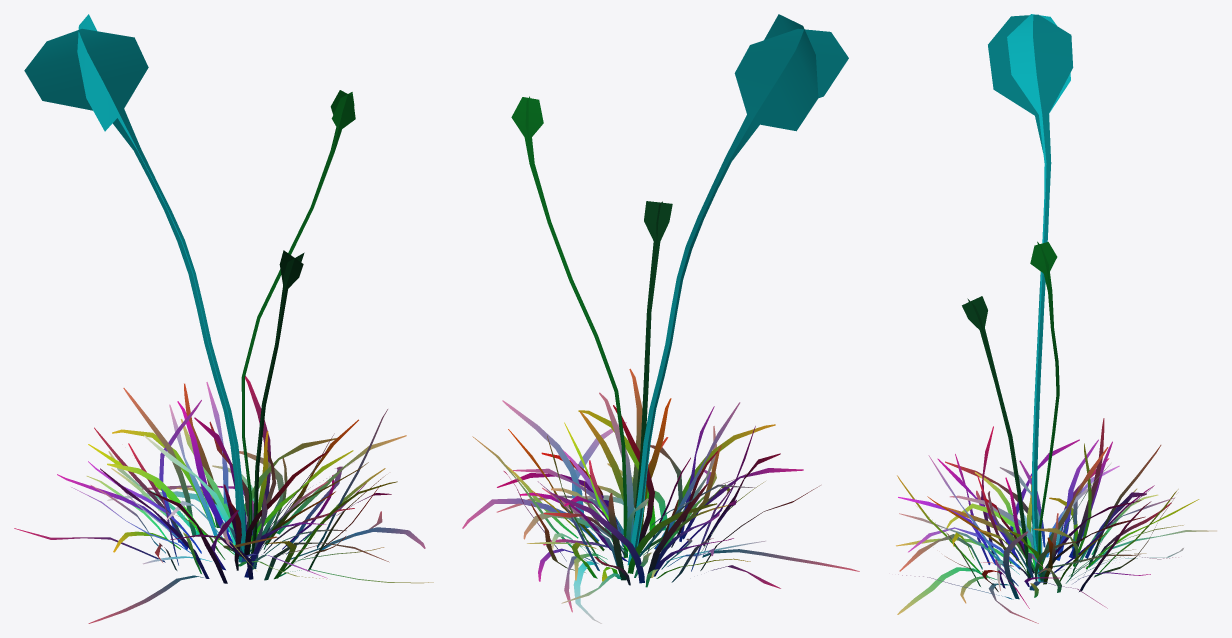
The model's file is Sea_Thrift_vkbgaihha_Mid_vkbgaihha_VarF_LOD0.fbx.
The picture shows the model from 3 angles, left to right: view 1: azimuth 30°, elevation 25°; view 2: azimuth 150°, elevation 25°; view 3: azimuth 270°, elevation 25°; orthographic projection. The views are drawn at different scales.
Parts seen in each view (by area): view 1: _upo1_VarF_LOD1; view 2: _upo1_VarF_LOD1; view 3: _upo1_VarF_LOD1.
Boxes of the visible parts, x1,y1,x2,y2 form: _upo1_VarF_LOD1: [14, 14, 433, 623]; _upo1_VarF_LOD1: [462, 14, 859, 623]; _upo1_VarF_LOD1: [896, 14, 1216, 623].
Bounding box in the file's own units: 10.79 × 16.34 × 9.77.
